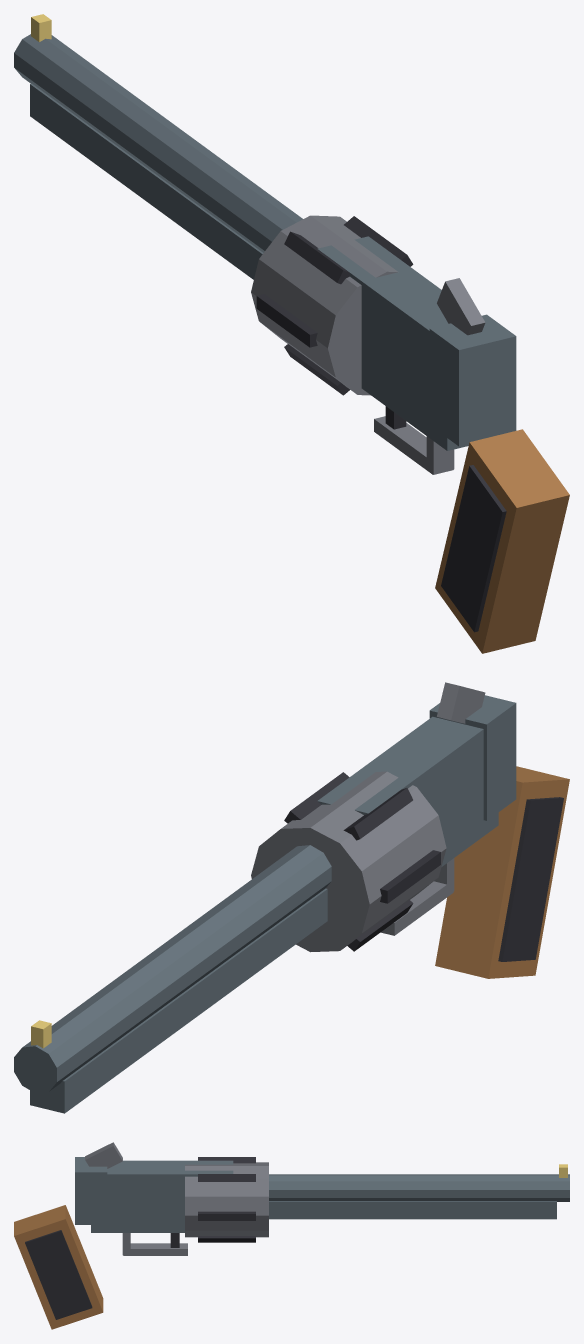
Rendered from revolver.glb.
The picture shows the model from 3 angles, top to bottom: view 1: azimuth 30°, elevation 25°; view 2: azimuth 150°, elevation 25°; view 3: azimuth 270°, elevation 25°; orthographic projection. The views are drawn at different scales.
Parts seen in each view (by area): view 1: Revolver; view 2: Revolver; view 3: Revolver.
Boxes of the visible parts, x1,y1,x2,y2 form: Revolver: [14, 14, 569, 653]; Revolver: [14, 682, 569, 1113]; Revolver: [14, 1142, 569, 1329].
Size of the model in its own units: 0.128 by 0.3046 by 0.8591.
